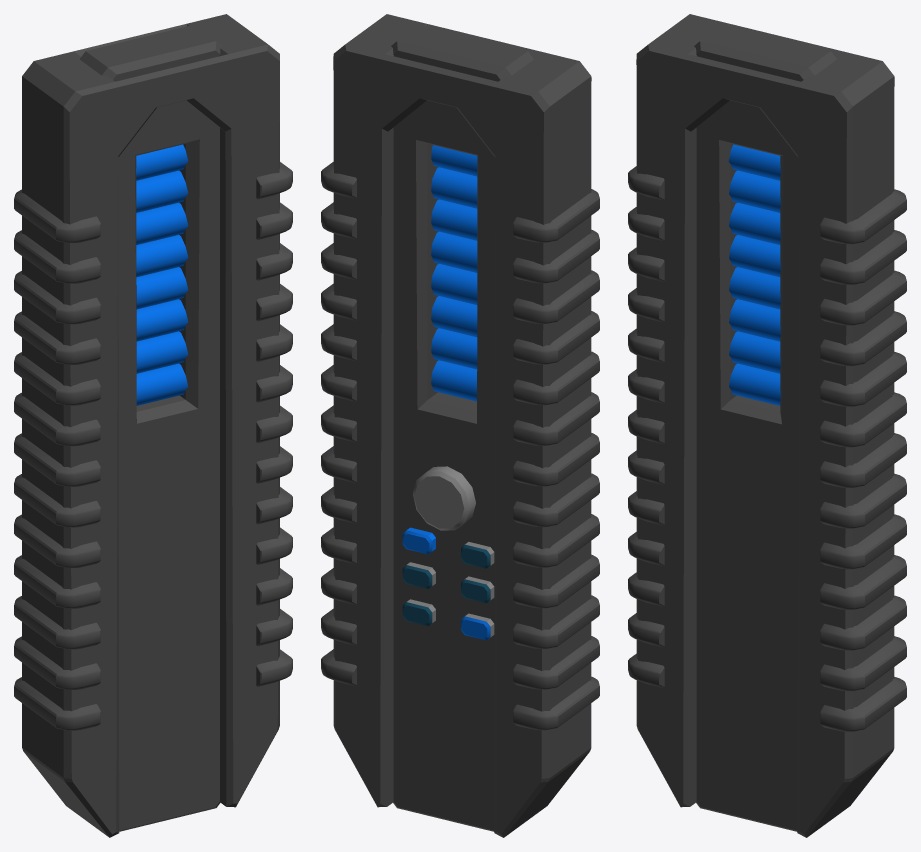
Rendered from Magazine_Plasma.fbx.
3 renders of one model, left to right at view 1: azimuth 30°, elevation 25°; view 2: azimuth 150°, elevation 25°; view 3: azimuth 330°, elevation 25°, orthographic.
Visible parts, largest first — view 1: Box009, Box006; view 2: Box009, Box006; view 3: Box009, Box006.
Boxes of the visible parts, x1,y1,x2,y2 form: Box009: [14, 14, 292, 837]; Box006: [79, 25, 222, 831]; Box009: [321, 14, 599, 837]; Box006: [391, 24, 533, 831]; Box009: [628, 14, 906, 837]; Box006: [694, 24, 836, 831].
Size of the model in its own units: 9.72 by 30.09 by 3.94.
